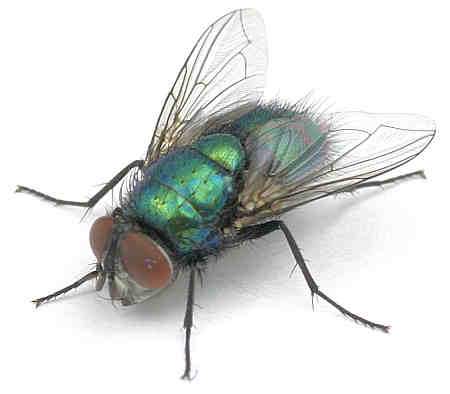green bottles fly: (3, 1, 438, 384)
